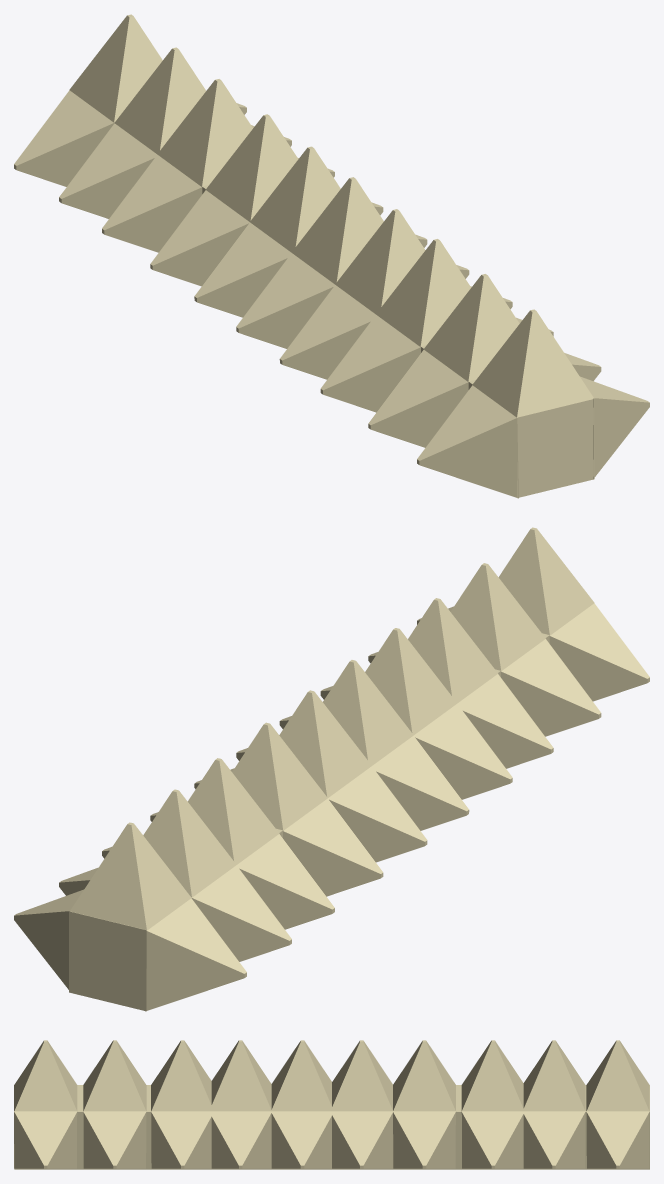
File: obstaculo 1.fbx
The picture shows the model from 3 angles, top to bottom: view 1: azimuth 30°, elevation 25°; view 2: azimuth 150°, elevation 25°; view 3: azimuth 270°, elevation 25°; orthographic projection. The views are drawn at different scales.
Parts seen in each view (by area): view 1: Cube.009; view 2: Cube.009; view 3: Cube.009.
Part boxes in pixels (box(x1,y1,x2,y2)): Cube.009: box(14, 14, 649, 498); Cube.009: box(14, 527, 649, 1011); Cube.009: box(14, 1040, 649, 1169).
Size of the model in its own units: 297 by 200 by 1000.
1 material, 1 textured.
